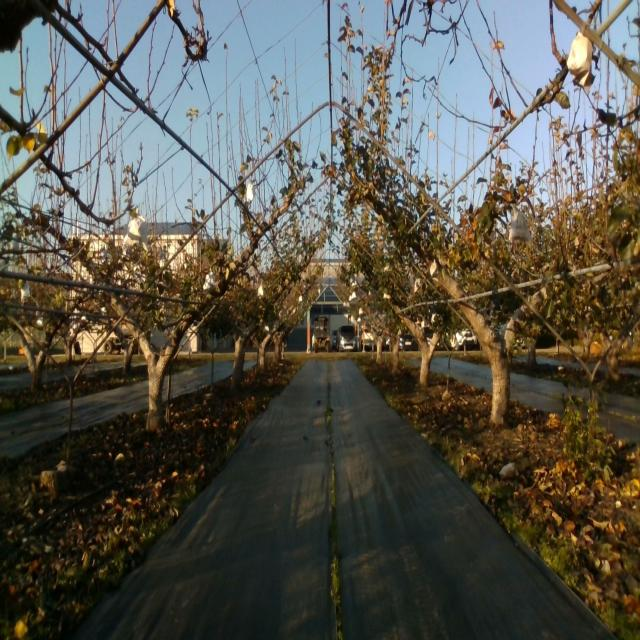pearbags: (567, 30, 594, 89), (123, 207, 148, 250), (509, 208, 532, 245), (202, 268, 216, 292)
